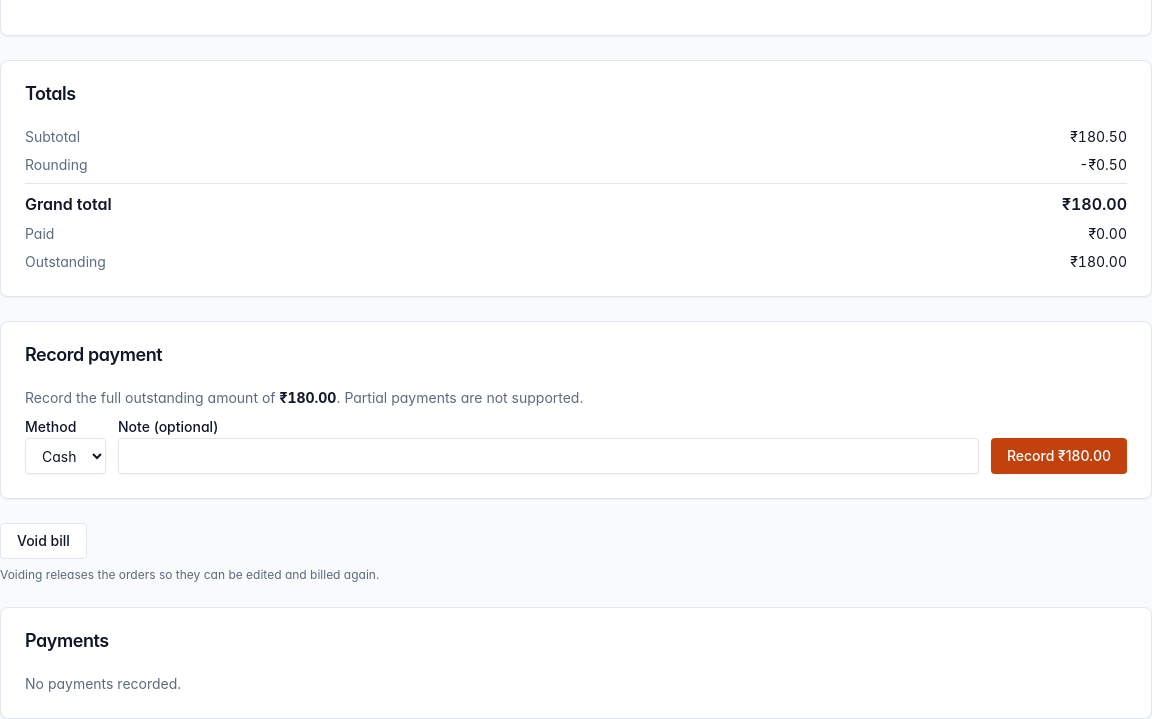
Test: BillDetailPage › requires a reason to void
(page scrolled)
Click the button "Void bill".
click(43, 541)  # box [0,523,87,559]
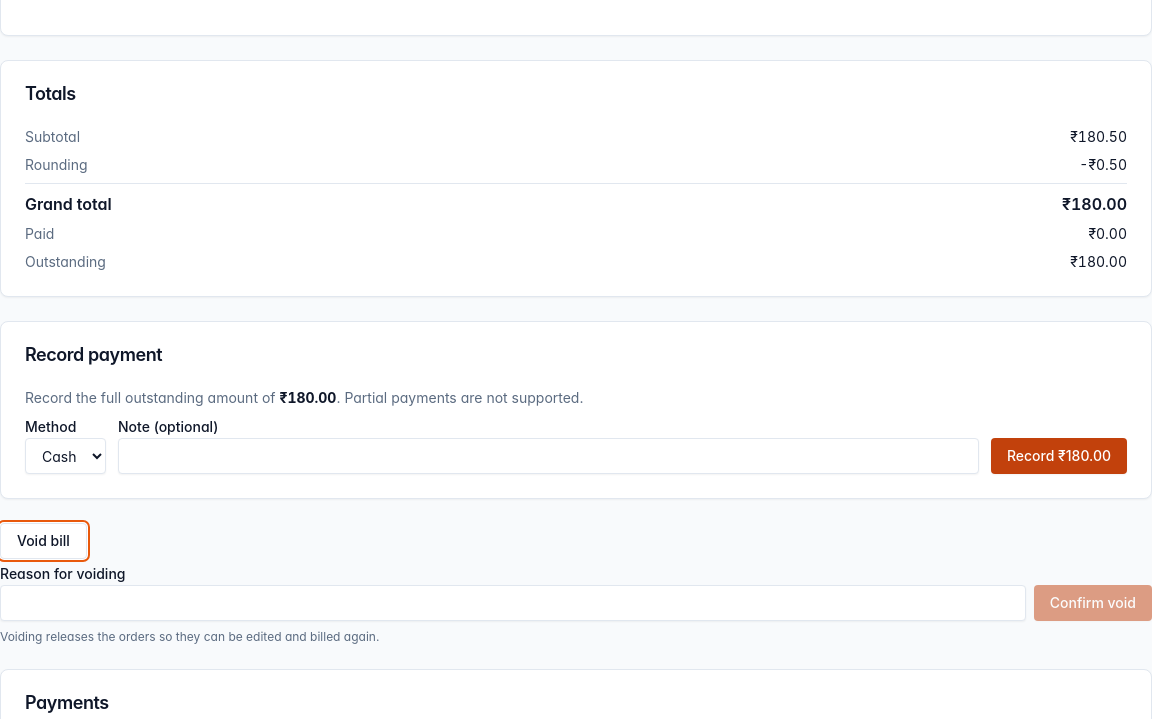
Check: the button "Confirm void" is disabled, box [1034,585,1151,621]
Type "wrong table" into the field labelled "Reason for voiding".
click(513, 603); type("wrong table")  # box [0,585,1026,621]
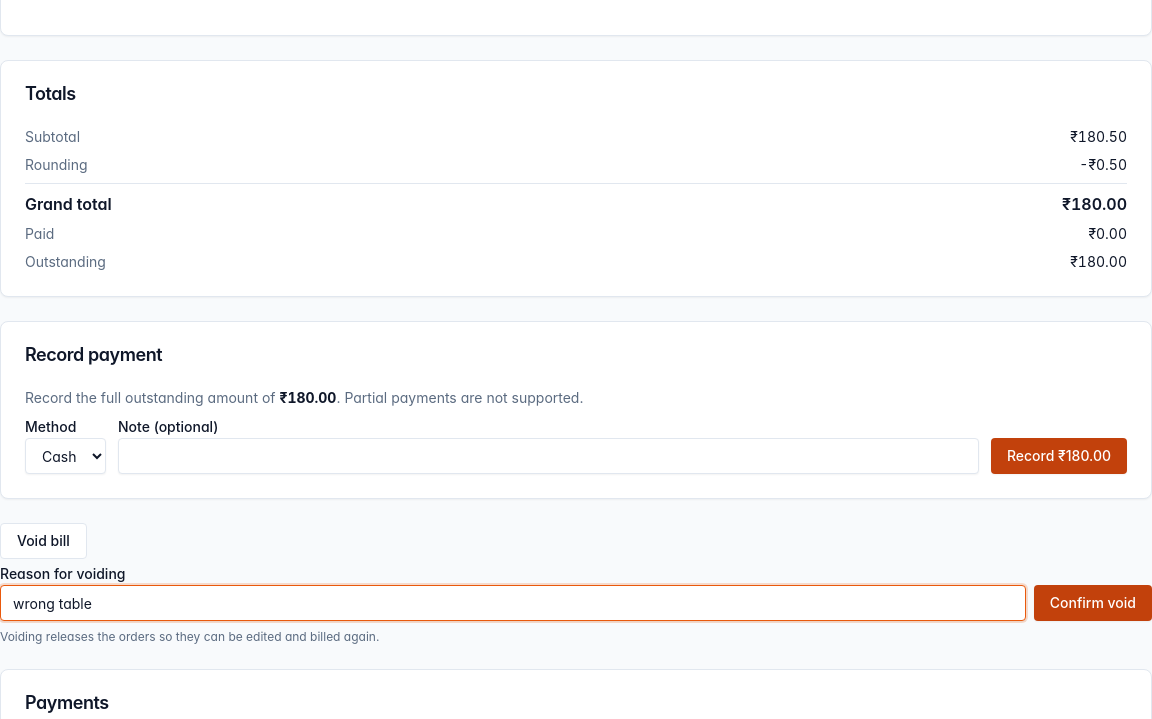
Check: the button "Confirm void" is enabled, box [1034,585,1151,621]
